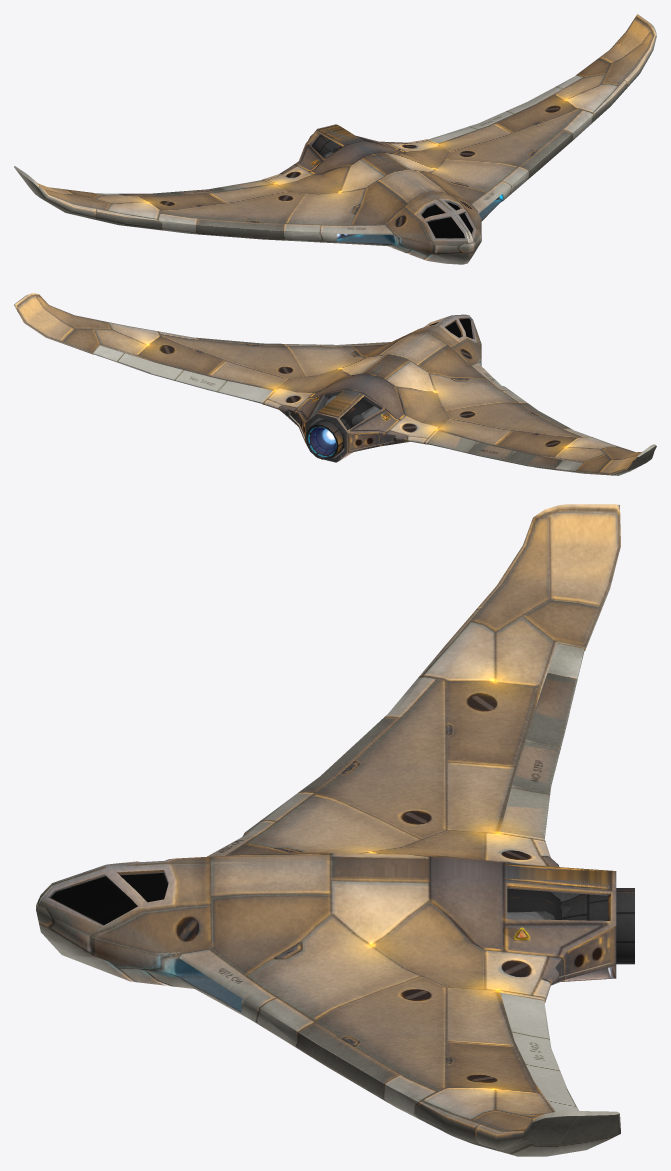
File: Delta 1 4.fbx
3 views of the same model, one above another, from view 1: azimuth 30°, elevation 25°; view 2: azimuth 150°, elevation 25°; view 3: azimuth 270°, elevation 25° (orthographic). The views are drawn at different scales.
Visible parts, largest first — view 1: DeltaI_LOD0, DeltaI_LOD4_2; view 2: DeltaI_LOD0, DeltaI_LOD4_2; view 3: DeltaI_LOD0, DeltaI_LOD4_2.
Boxes of the visible parts, x1=… form: DeltaI_LOD0: x1=14, y1=14, x2=656, y2=264; DeltaI_LOD4_2: x1=30, y1=27, x2=655, y2=264; DeltaI_LOD0: x1=14, y1=293, x2=656, y2=475; DeltaI_LOD4_2: x1=29, y1=295, x2=655, y2=474; DeltaI_LOD0: x1=37, y1=504, x2=634, y2=1156; DeltaI_LOD4_2: x1=36, y1=506, x2=616, y2=1149.
Size of what is drawn, in the model's own units: 4487 by 595 by 1859.
2 materials, 1 textured.
